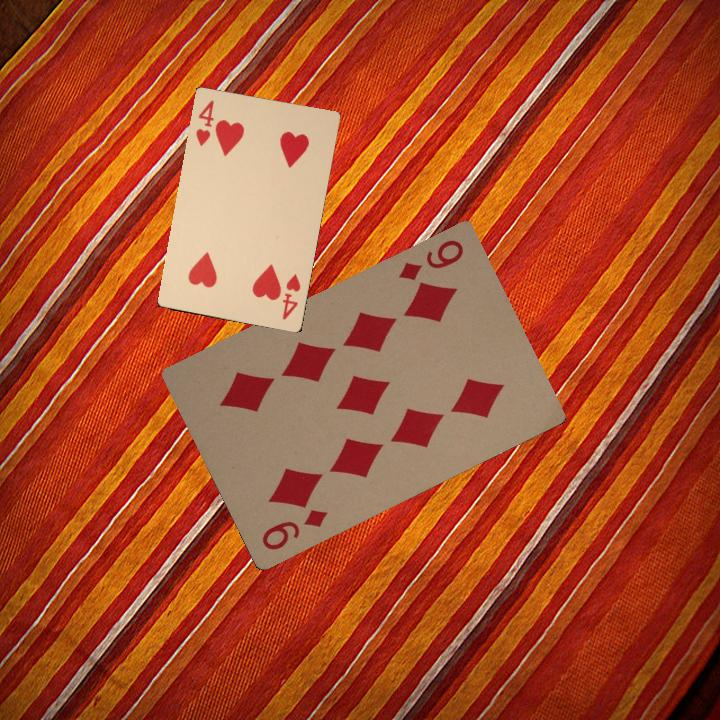4h: (278, 270, 303, 322), (192, 96, 216, 148)
9d: (257, 505, 331, 553), (394, 235, 466, 283)
